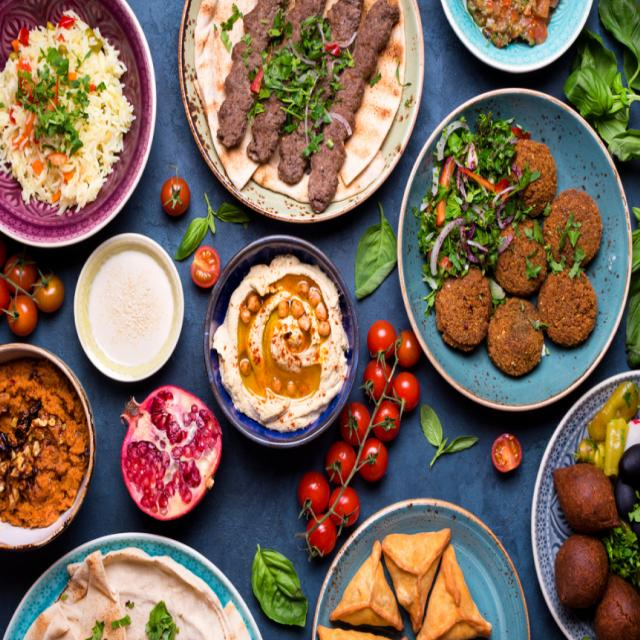non-organic waste: (392, 81, 640, 426), (196, 225, 368, 455), (68, 224, 188, 390)
